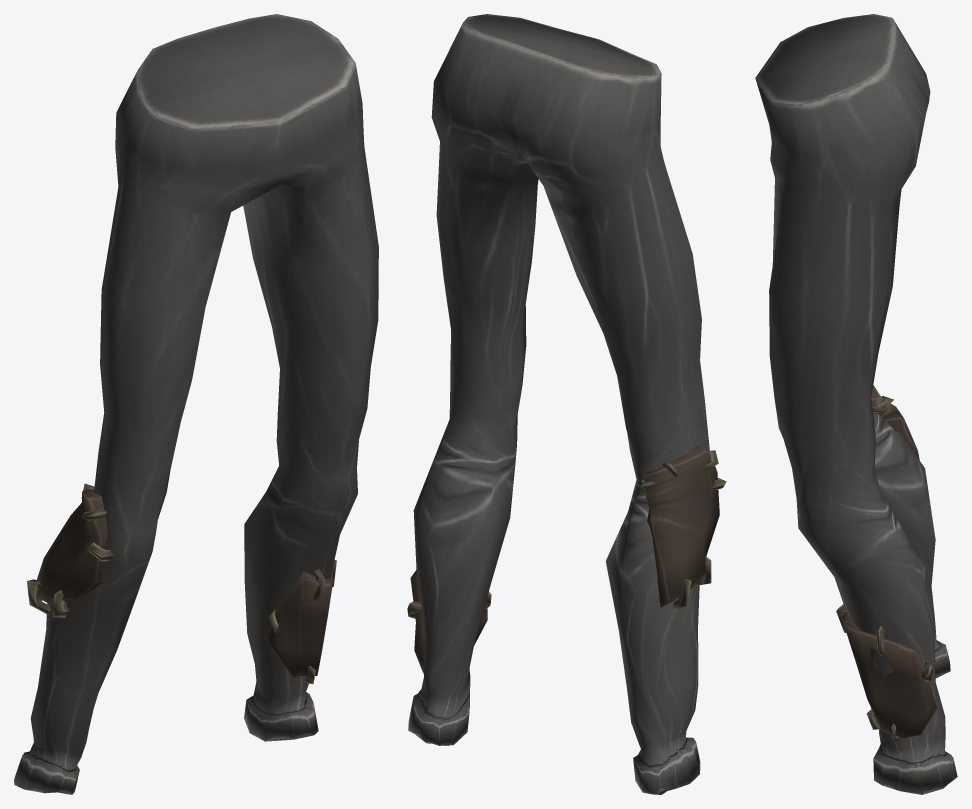
Rendered from trousers.glb.
3 renders of one model, left to right at view 1: azimuth 30°, elevation 25°; view 2: azimuth 150°, elevation 25°; view 3: azimuth 270°, elevation 25°, orthographic. The views are drawn at different scales.
Parts seen in each view (by area): view 1: peasant_a_legs.4; view 2: peasant_a_legs.4; view 3: peasant_a_legs.4.
Boxes of the visible parts, box(x1,y1,x2,y2) form: peasant_a_legs.4: box(14, 14, 378, 794); peasant_a_legs.4: box(407, 14, 726, 794); peasant_a_legs.4: box(755, 14, 957, 794).
Bounding box in the file's own units: 0.3419 × 0.7844 × 0.2024.
1 material, 1 textured.
